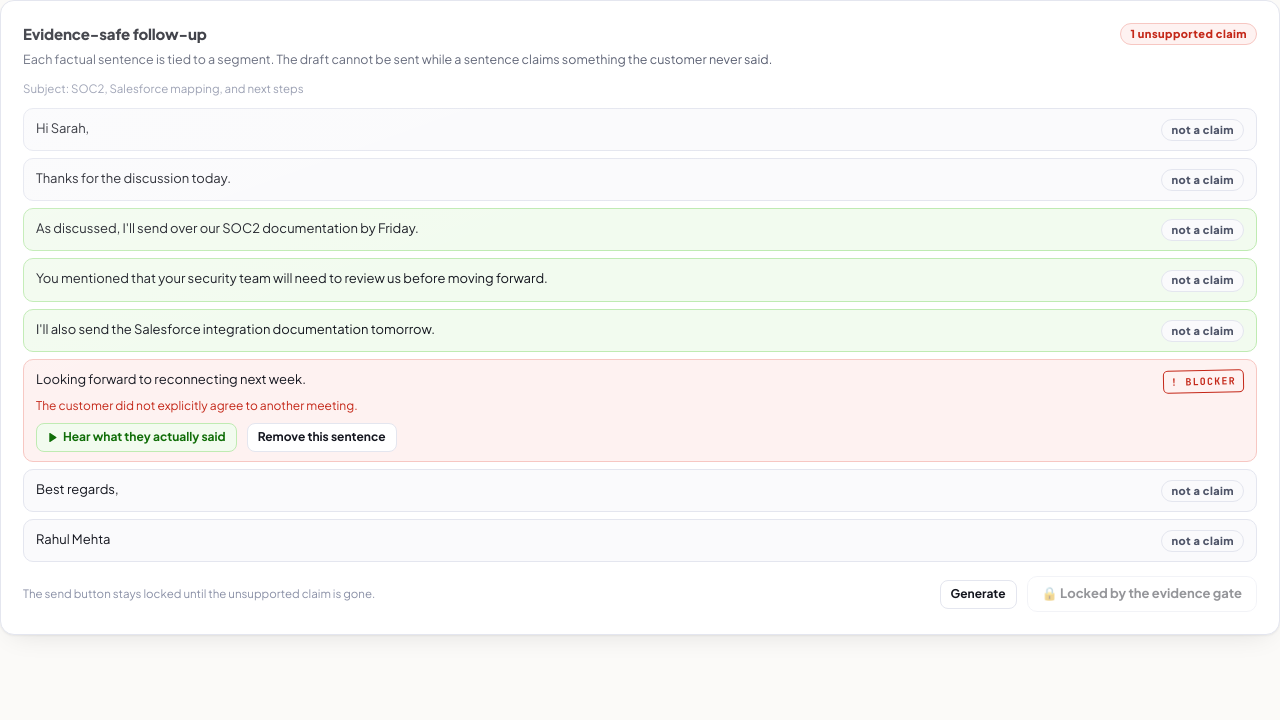
Scenario: follow-up › shows unsupported claims and allows remove
Check: the text "Looking forward to reconnecting next week." is shown, box [36,371,306,387]
Check: the text "1 unsupported claim" is shown, box [1120,23,1257,45]
Click the button "Remove this sentence" at (322, 437), box [247,422,397,452]
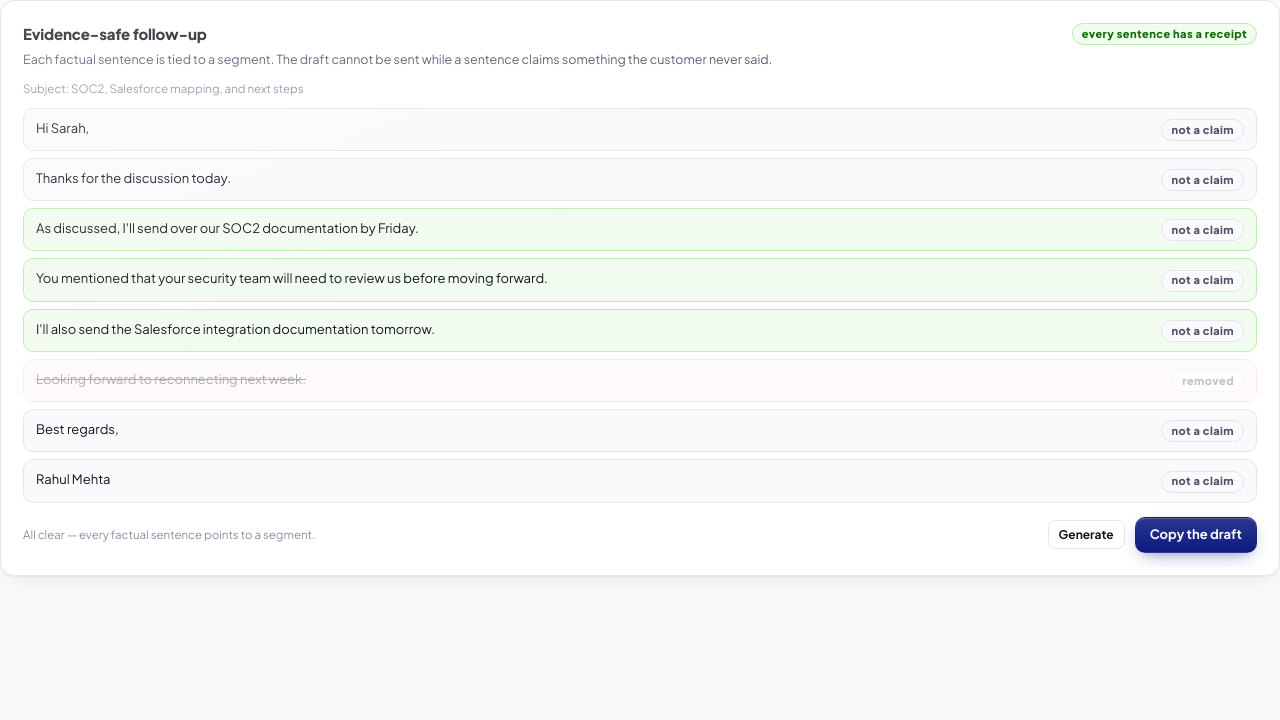
Check: the button "Copy the draft" is enabled, box [1135,516,1257,552]
